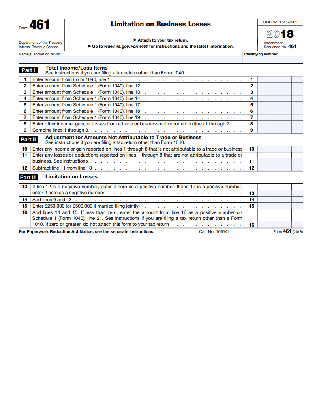textbox: (17, 49, 244, 65), (241, 49, 306, 64), (255, 207, 293, 229), (255, 150, 293, 166), (255, 182, 293, 198), (256, 200, 294, 210), (256, 74, 294, 83), (256, 81, 294, 90), (256, 87, 294, 96), (256, 94, 294, 103), (256, 100, 294, 109), (256, 106, 294, 115), (256, 113, 294, 122), (256, 119, 294, 128), (256, 124, 294, 133), (256, 144, 294, 153), (256, 163, 294, 172), (256, 195, 294, 204), (290, 207, 305, 229), (290, 182, 305, 198), (291, 150, 306, 166), (290, 200, 305, 210), (290, 74, 305, 84), (290, 81, 305, 91), (290, 112, 305, 122), (290, 118, 305, 128), (290, 163, 306, 172), (290, 195, 305, 204), (290, 87, 305, 96), (290, 93, 305, 102), (290, 100, 305, 109), (290, 106, 305, 115), (291, 125, 306, 134), (290, 144, 304, 153)
